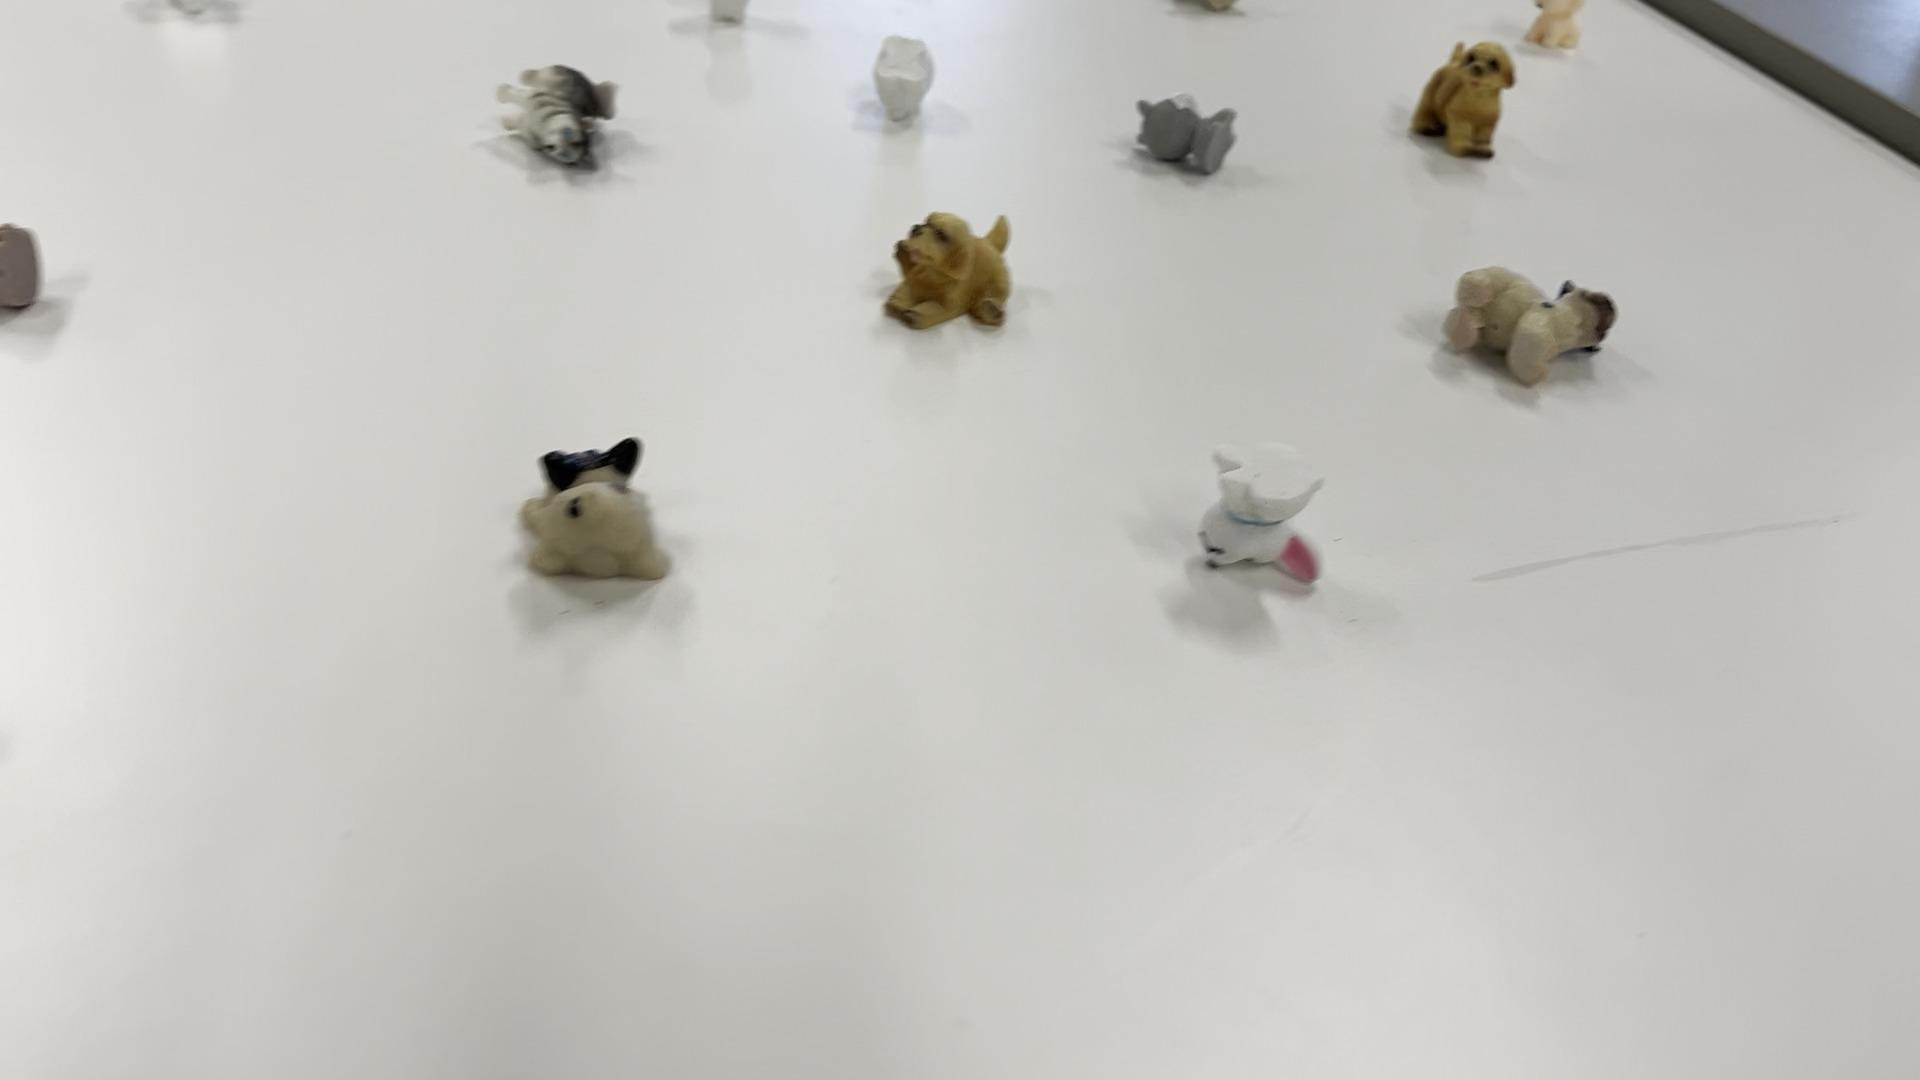pet: (510, 429, 691, 596), (1428, 256, 1631, 404), (1204, 435, 1354, 600), (489, 46, 641, 193), (865, 214, 1035, 343), (1415, 32, 1524, 171), (1121, 88, 1251, 198)
